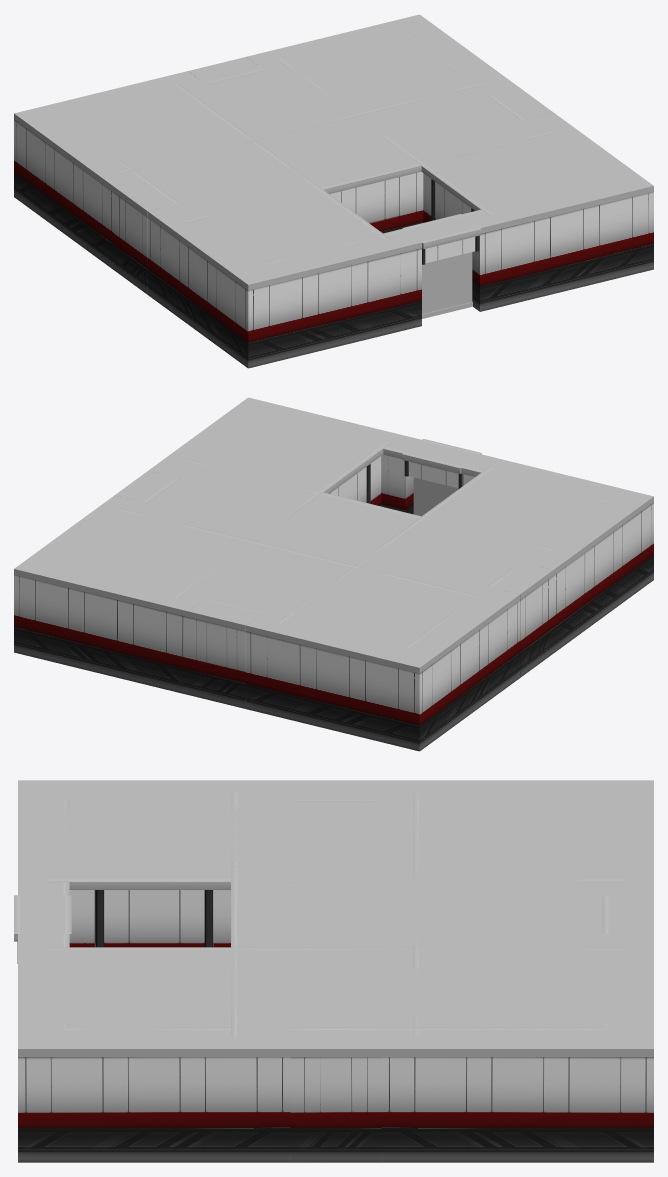
The model's file is RoomEndWall.FBX.
The picture shows the model from 3 angles, top to bottom: view 1: azimuth 30°, elevation 25°; view 2: azimuth 150°, elevation 25°; view 3: azimuth 270°, elevation 25°; orthographic projection. The views are drawn at different scales.
Visible parts, largest first — view 1: Wall0 (×8), Box571, Box496, Wall3, Box503, Wall1 (×2), Box204, Box205, Box206, Box098; view 2: Wall0 (×8), Box496, Wall3, Box503, Box571, Wall1 (×2), Box204, Box098, Box205; view 3: Wall0 (×8), Box503, Box571, Box496, Wall3, Box098, Wall1 (×2), Box204.
Boxes of the visible parts, x1,y1,x2,y2 form: Wall0 (×8): (14, 14, 653, 368); Box571: (112, 76, 556, 244); Box496: (44, 27, 489, 240); Wall3: (277, 27, 622, 254); Box503: (45, 83, 390, 340); Wall1 (×2): (114, 57, 264, 294); Box204: (402, 214, 481, 264); Box205: (443, 252, 472, 313); Box206: (422, 259, 443, 318); Box098: (488, 88, 553, 120); Wall0 (×8): (14, 397, 653, 751); Box496: (44, 508, 487, 683); Wall3: (45, 410, 390, 637); Box503: (277, 466, 622, 723); Box571: (121, 459, 556, 627); Wall1 (×2): (188, 562, 553, 708); Box204: (402, 439, 481, 488); Box098: (114, 471, 179, 503); Box205: (413, 477, 442, 516); Wall0 (×8): (18, 780, 653, 1162); Box503: (46, 793, 625, 947); Box571: (231, 792, 440, 1128); Box496: (412, 792, 622, 1036); Wall3: (46, 947, 625, 1128); Box098: (290, 1027, 381, 1162); Wall1 (×2): (290, 780, 653, 933); Box204: (14, 895, 71, 963).
Size of the model in its own units: 140 by 141 by 27.57.
